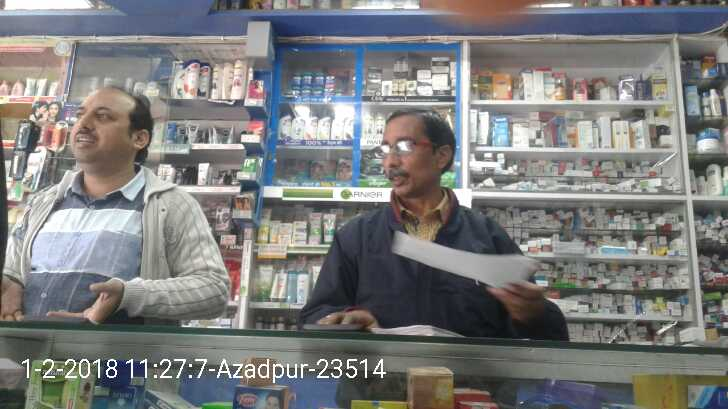vicks: (288, 71, 343, 97)
